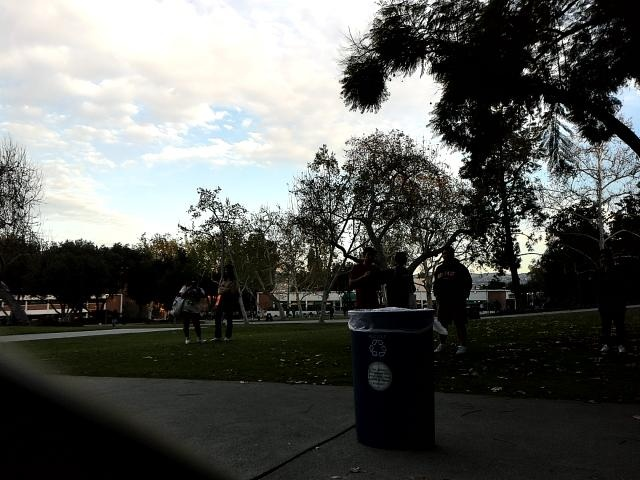trashcan_open: (338, 299, 441, 452)
